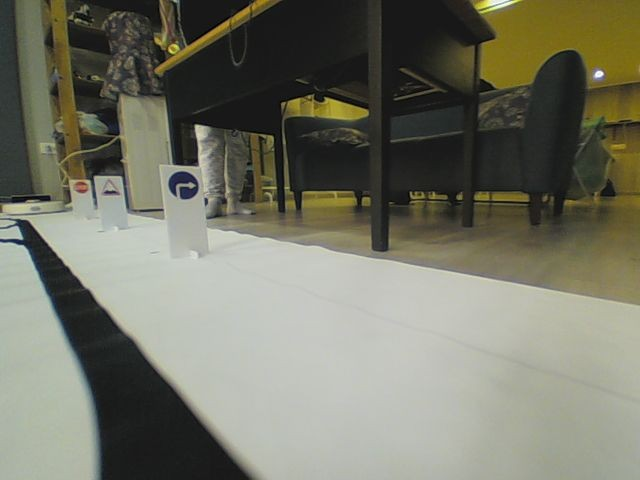Nerov: (100, 178, 120, 197)
Right: (167, 170, 199, 200)
